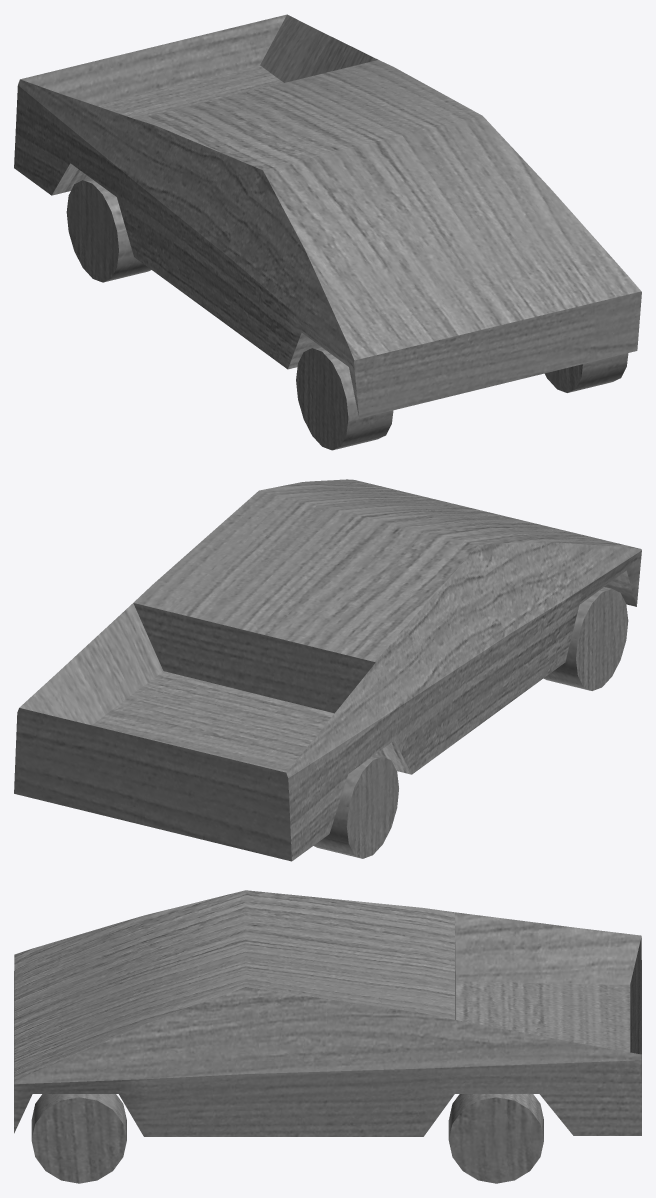
File: wood_cyber_truck.fbx
3 views of the same model, one above another, from view 1: azimuth 30°, elevation 25°; view 2: azimuth 150°, elevation 25°; view 3: azimuth 270°, elevation 25° (orthographic). The views are drawn at different scales.
Parts seen in each view (by area): view 1: car; view 2: car; view 3: car.
Part boxes in pixels (left/top/right/bottom): car: left=14, top=14, right=641, bottom=450; car: left=14, top=479, right=641, bottom=861; car: left=14, top=890, right=641, bottom=1183.
Size of the model in its own units: 6.35 by 4.26 by 13.17.
